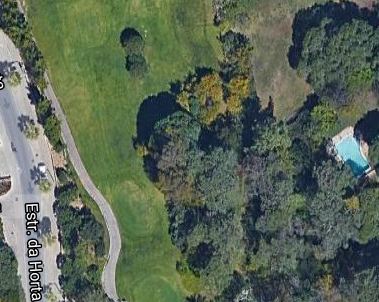pool: (334, 132, 369, 167)
